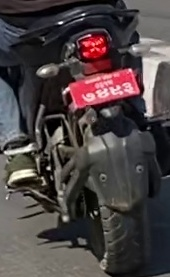license_plate: (68, 68, 140, 108)
